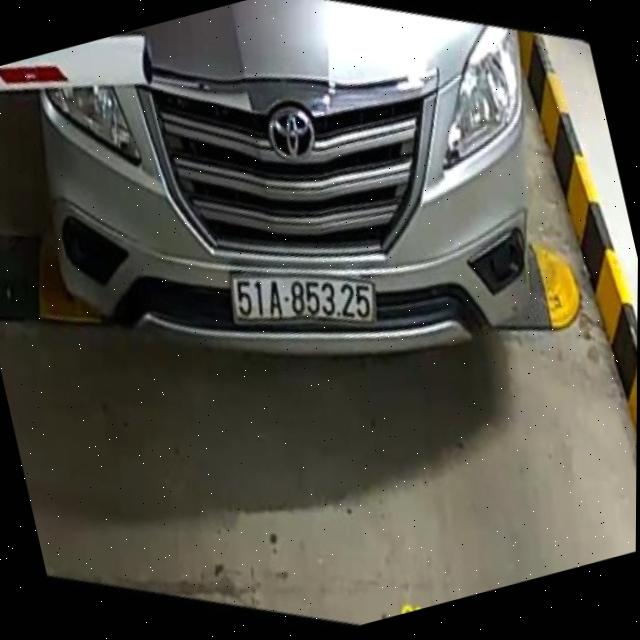car: (7, 0, 588, 451)
plate: (213, 229, 389, 369)
